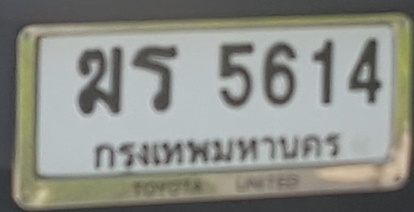txt04: (74, 45, 124, 119)
txt30: (128, 44, 179, 114)
